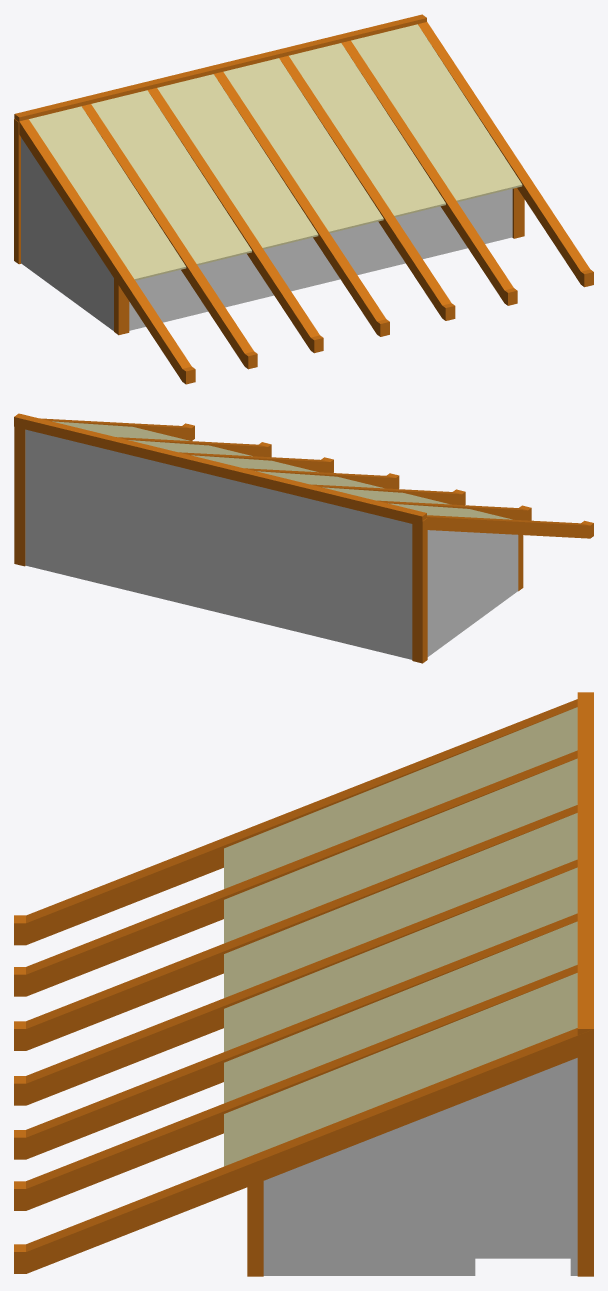
File: House03.fbx
The picture shows the model from 3 angles, top to bottom: view 1: azimuth 30°, elevation 25°; view 2: azimuth 150°, elevation 25°; view 3: azimuth 270°, elevation 25°; orthographic projection. The views are drawn at different scales.
Visible parts, largest first — view 1: Cube.012, Cube, Cube.007, Cube.003, Cube.005, Cube.001, Cube.002, Cube.004, Cube.006, Cube.009, Cube.011, Cube.014 (+1 smaller); view 2: Cube, Cube.009, Cube.012, Cube.007, Cube.011, Cube.010, Cube.001, Cube.006, Cube.005, Cube.003, Cube.004, Cube.002; view 3: Cube.012, Cube, Cube.001, Cube.003, Cube.007, Cube.005, Cube.004, Cube.006, Cube.002, Cube.009, Cube.010, Cube.013.
Boxes of the visible parts, x1,y1,x2,y2 form: Cube.012: (29,24,522,280); Cube: (21,137,512,330); Cube.007: (15,115,195,384); Cube.003: (279,55,455,320); Cube.005: (147,88,323,353); Cube.001: (418,22,593,287); Cube.002: (341,40,517,305); Cube.004: (82,104,257,369); Cube.006: (214,72,389,336); Cube.009: (14,14,426,121); Cube.011: (14,119,20,264); Cube.014: (114,278,129,335); Cube: (25,429,518,659); Cube.009: (14,413,426,523); Cube.012: (52,421,512,519); Cube.007: (423,515,593,538); Cube.011: (412,518,427,663); Cube.010: (14,422,25,566); Cube.001: (40,418,194,440); Cube.006: (245,468,399,488); Cube.005: (310,484,465,505); Cube.003: (179,452,333,472); Cube.004: (377,500,531,520); Cube.002: (116,437,271,457); Cube.012: (224,707,577,1166); Cube: (263,1058,577,1275); Cube.001: (14,1028,591,1273); Cube.003: (14,913,577,1159); Cube.007: (14,699,577,945); Cube.005: (14,805,577,1050); Cube.004: (14,750,577,996); Cube.006: (14,859,577,1105); Cube.002: (14,965,577,1210); Cube.009: (577,692,593,1045); Cube.010: (577,1045,593,1276); Cube.013: (247,1181,263,1276).
Size of the model in its own units: 1397 by 480 by 1016.
